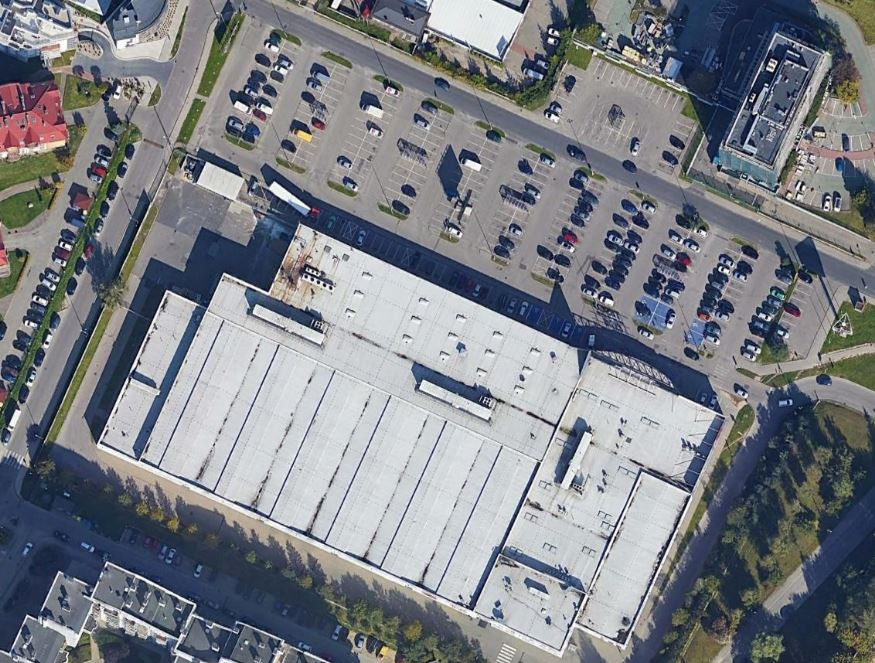block of flats: (1, 558, 355, 663), (701, 25, 839, 195), (1, 72, 73, 171)
shopping_center: (80, 209, 727, 660)
